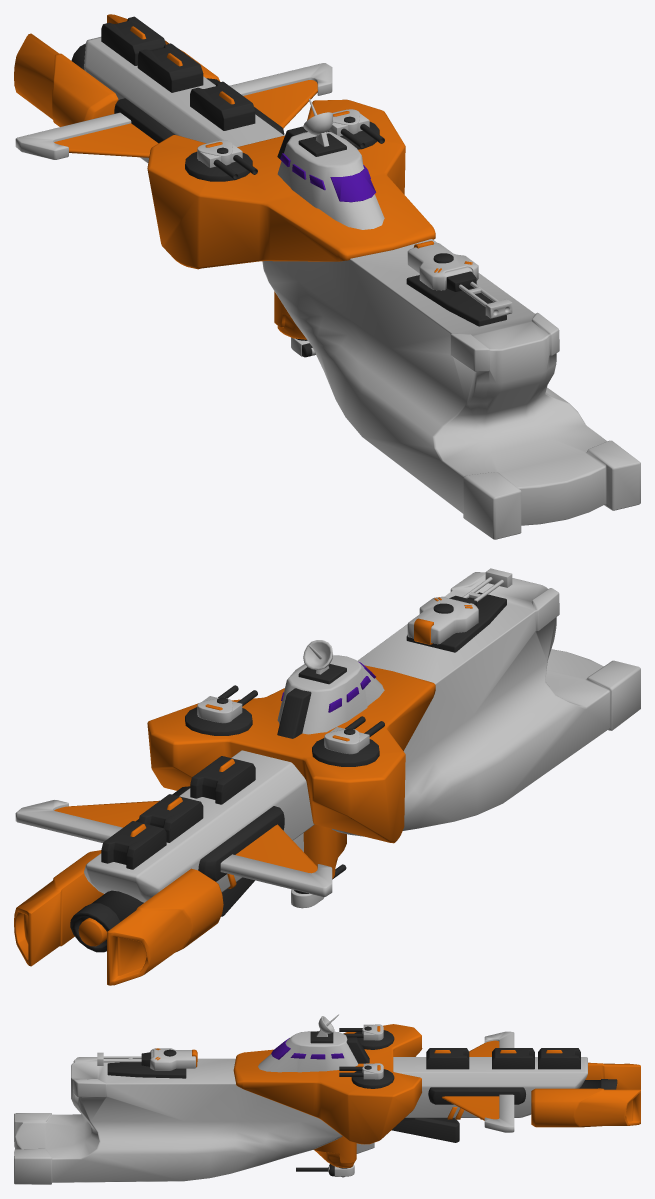
3 views of the same model, one above another, from view 1: azimuth 30°, elevation 25°; view 2: azimuth 150°, elevation 25°; view 3: azimuth 270°, elevation 25° (orthographic). The views are drawn at different scales.
Visible parts, largest first — view 1: Light_Cruiser_3.003; view 2: Light_Cruiser_3.003; view 3: Light_Cruiser_3.003.
Part boxes in pixels (box(x1,y1,x2,y2)): Light_Cruiser_3.003: box(14, 14, 640, 539); Light_Cruiser_3.003: box(14, 568, 640, 985); Light_Cruiser_3.003: box(14, 1014, 640, 1184).
Bounding box in the file's own units: 19.14 × 15.17 × 53.1.
